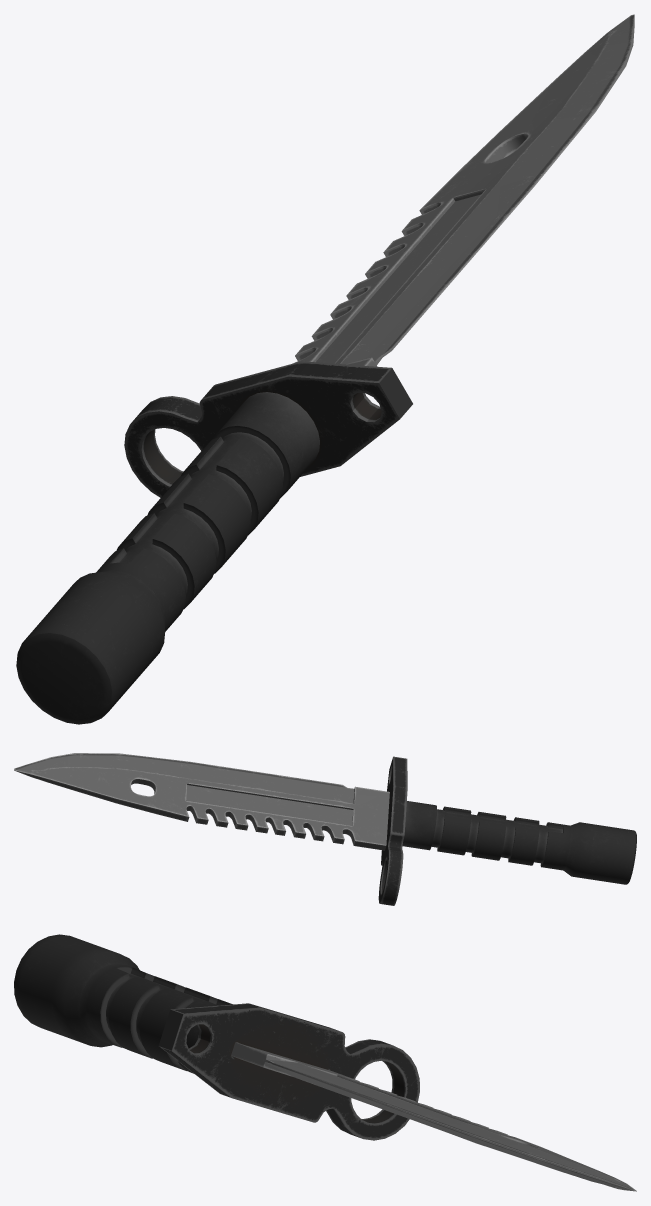
Rendered from fps_bayonet_test01.fbx.
3 renders of one model, top to bottom at view 1: azimuth 30°, elevation 25°; view 2: azimuth 150°, elevation 25°; view 3: azimuth 270°, elevation 25°, orthographic. The views are drawn at different scales.
Parts seen in each view (by area): view 1: handle_low; view 2: handle_low; view 3: handle_low.
Part boxes in pixels (bbox=[...]): handle_low: bbox=[16, 14, 634, 724]; handle_low: bbox=[14, 753, 636, 905]; handle_low: bbox=[14, 934, 636, 1191].
Size of the model in its own units: 223 by 58.69 by 148.
